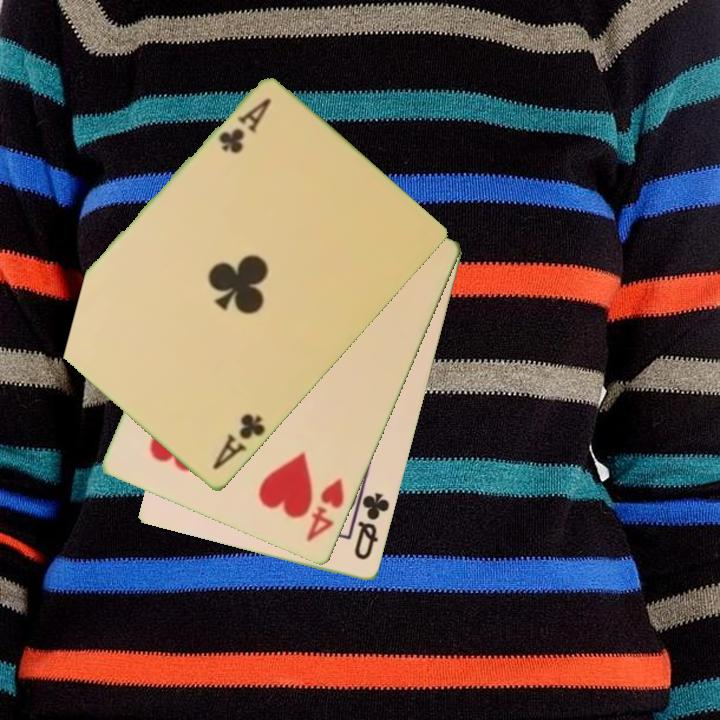4h: (303, 475, 348, 545)
Ac: (214, 95, 275, 158), (209, 410, 269, 474)
Qc: (351, 489, 393, 564)
